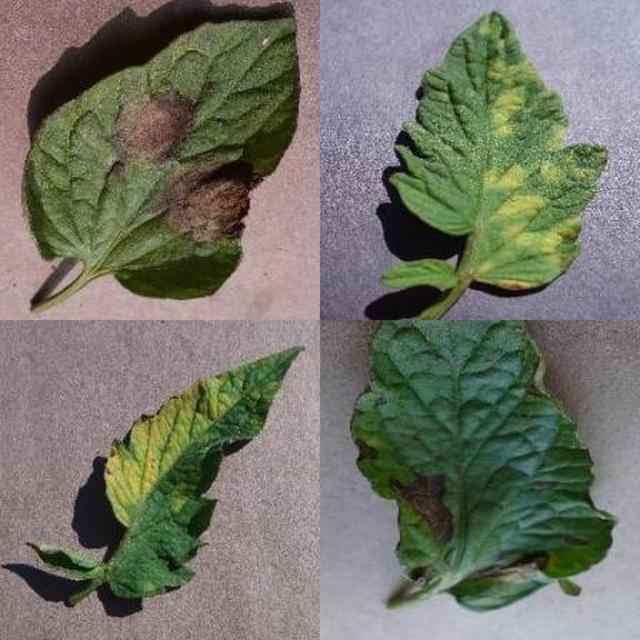Late Blight Leaf: (223, 215, 640, 640)
